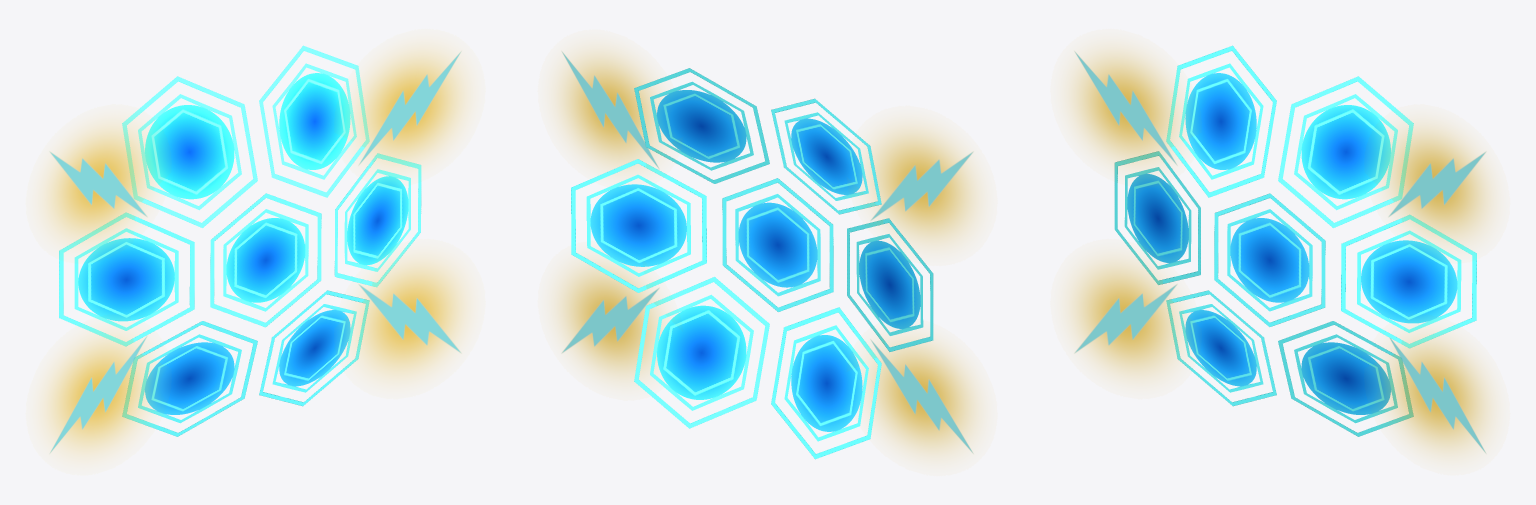
File: pushShieldHit.glb
3 renders of one model, left to right at view 1: azimuth 30°, elevation 25°; view 2: azimuth 150°, elevation 25°; view 3: azimuth 330°, elevation 25°, orthographic.
Parts seen in each view (by area): view 1: pushShieldHit; view 2: pushShieldHit; view 3: pushShieldHit.
Part boxes in pixels (x1,y1,x2,y2): pushShieldHit: [47, 45, 462, 453]; pushShieldHit: [559, 51, 974, 459]; pushShieldHit: [1073, 45, 1488, 453].
Size of the model in its own units: 1.92 by 1.46 by 0.1843.
Materials: 2 (2 with a texture image).
